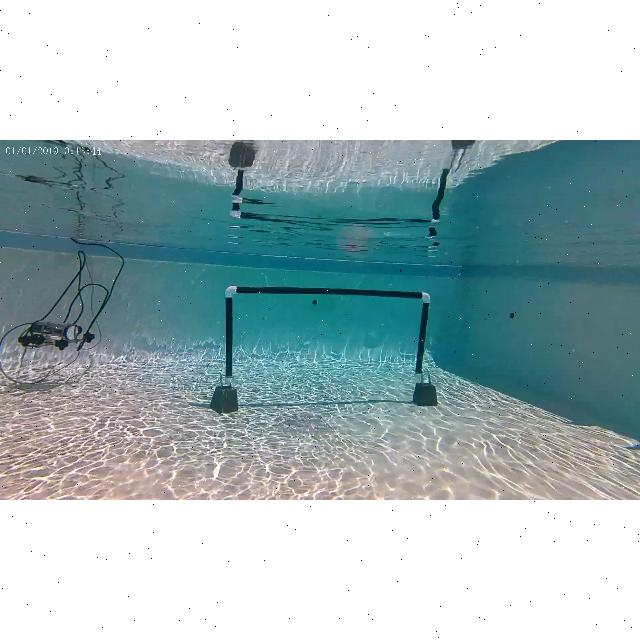prequal gate: (225, 286, 431, 382)
prequal gate leg l: (226, 286, 238, 382)
prequal gate leg r: (414, 290, 431, 374)
